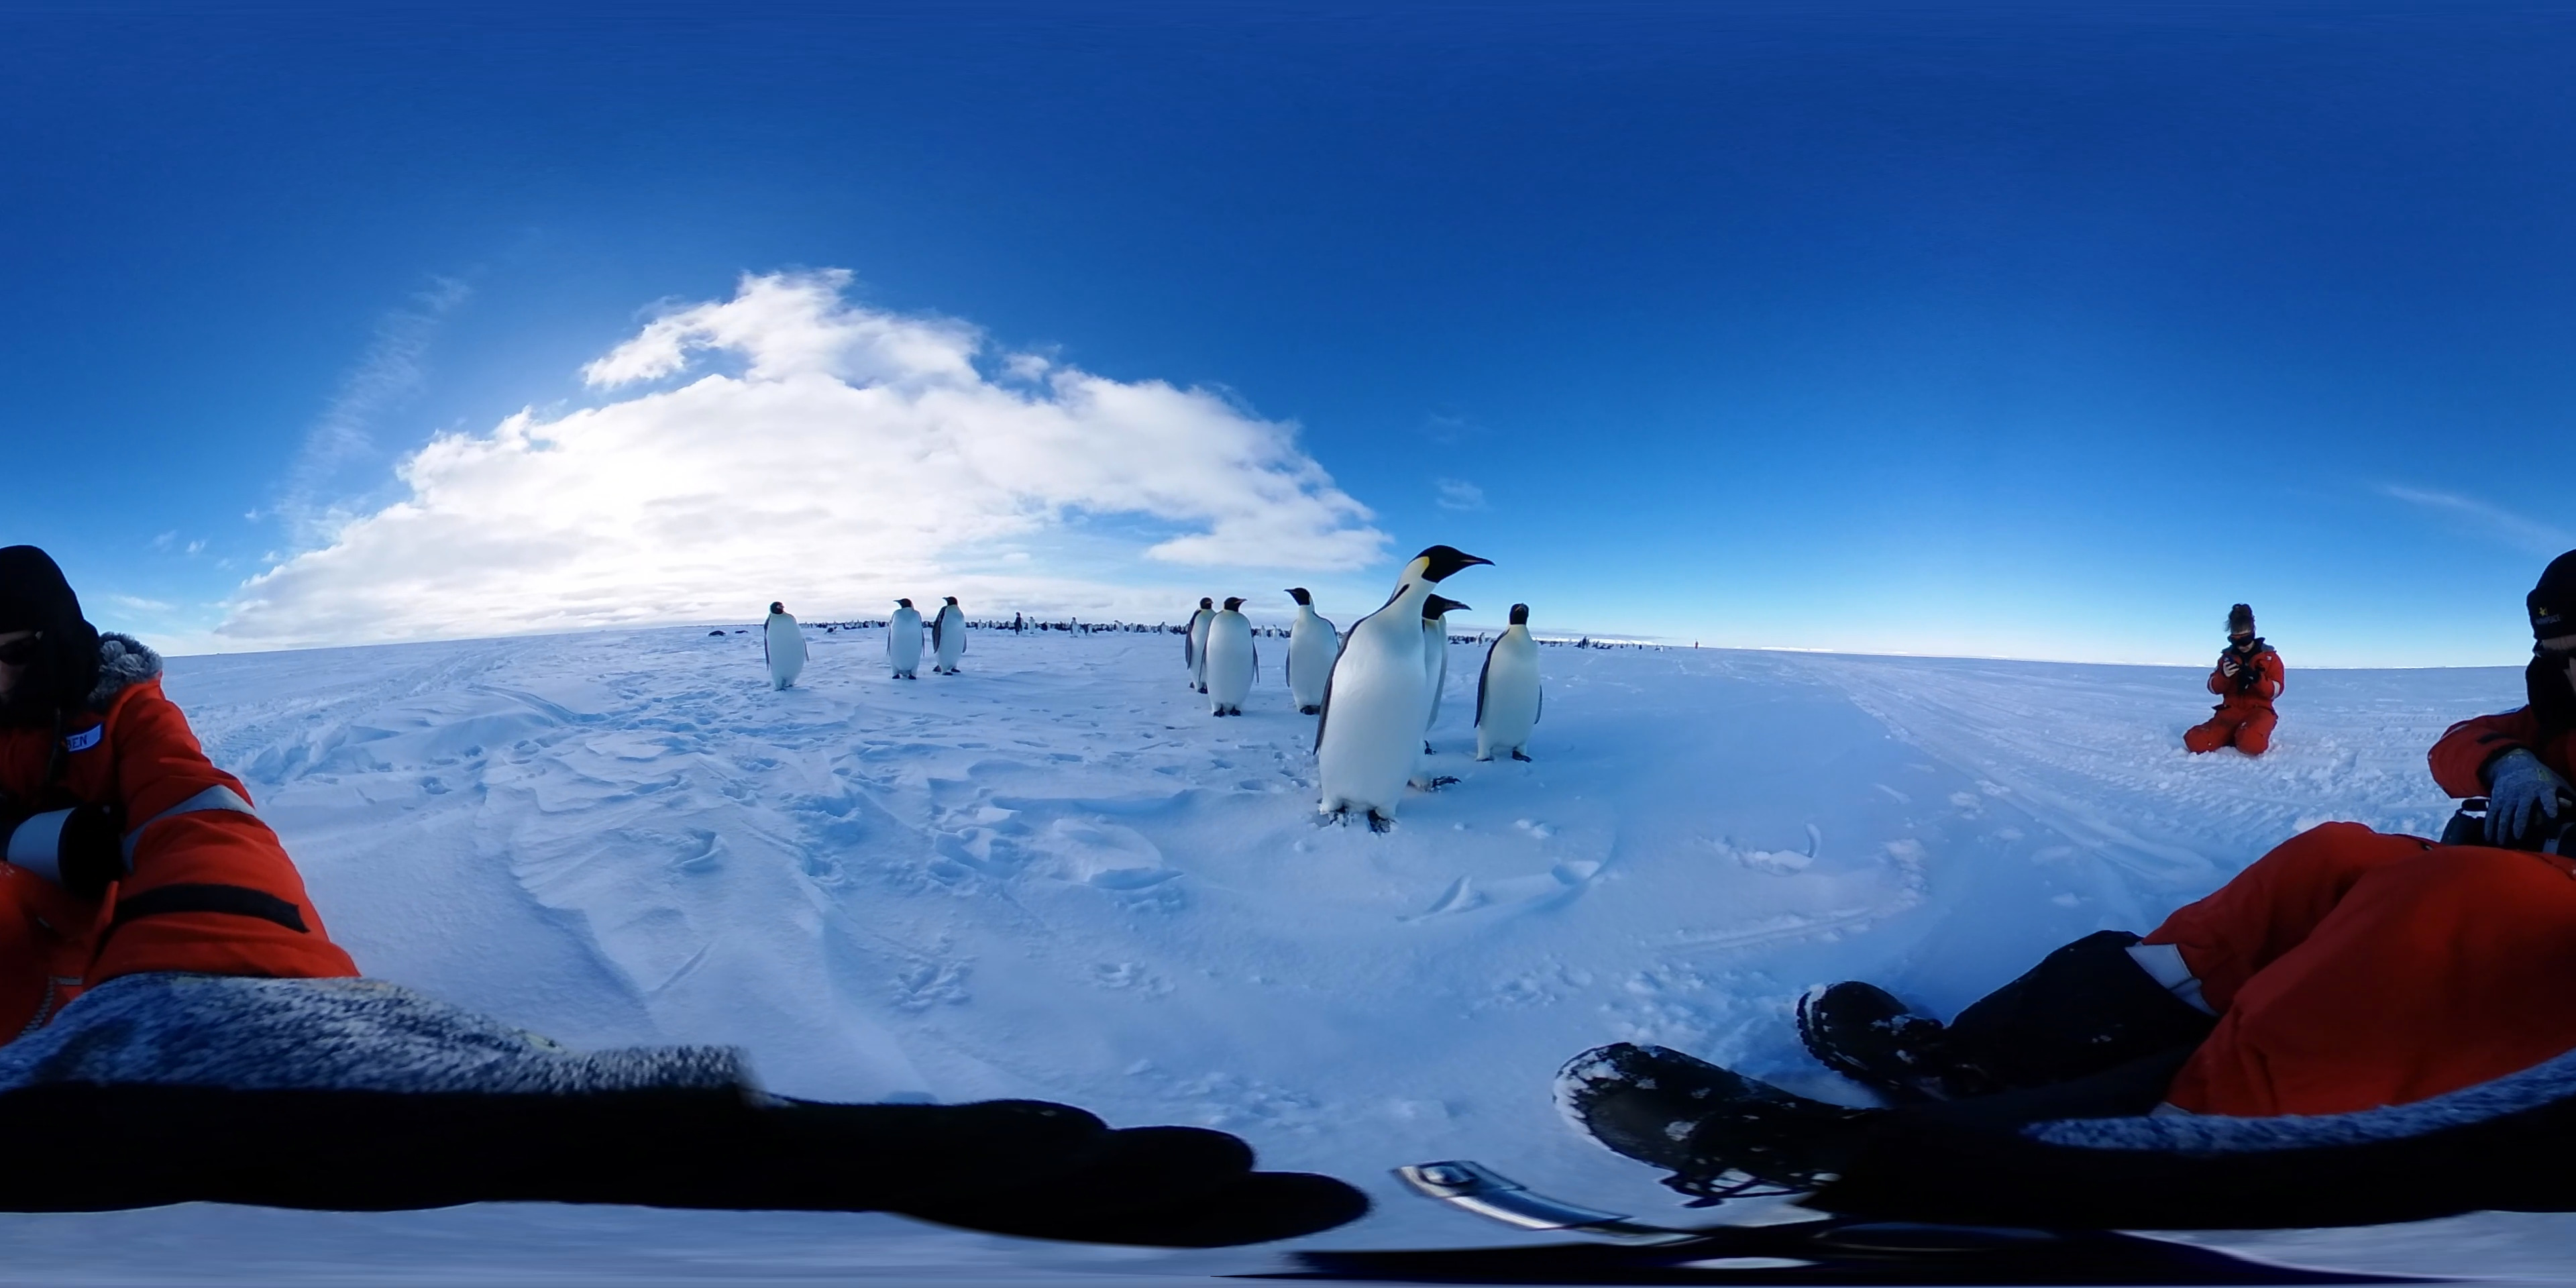adult_standing_penguin: (1309, 542, 1502, 835), (1411, 590, 1477, 797), (1467, 598, 1544, 769), (1281, 582, 1349, 721), (1203, 593, 1262, 721), (761, 600, 818, 698), (884, 596, 928, 683), (1184, 596, 1222, 697), (930, 596, 969, 678)
adult_toboggan_penguin: (705, 628, 726, 642)
researcher: (1620, 531, 2576, 1081), (0, 534, 370, 1109), (2175, 593, 2290, 761)
